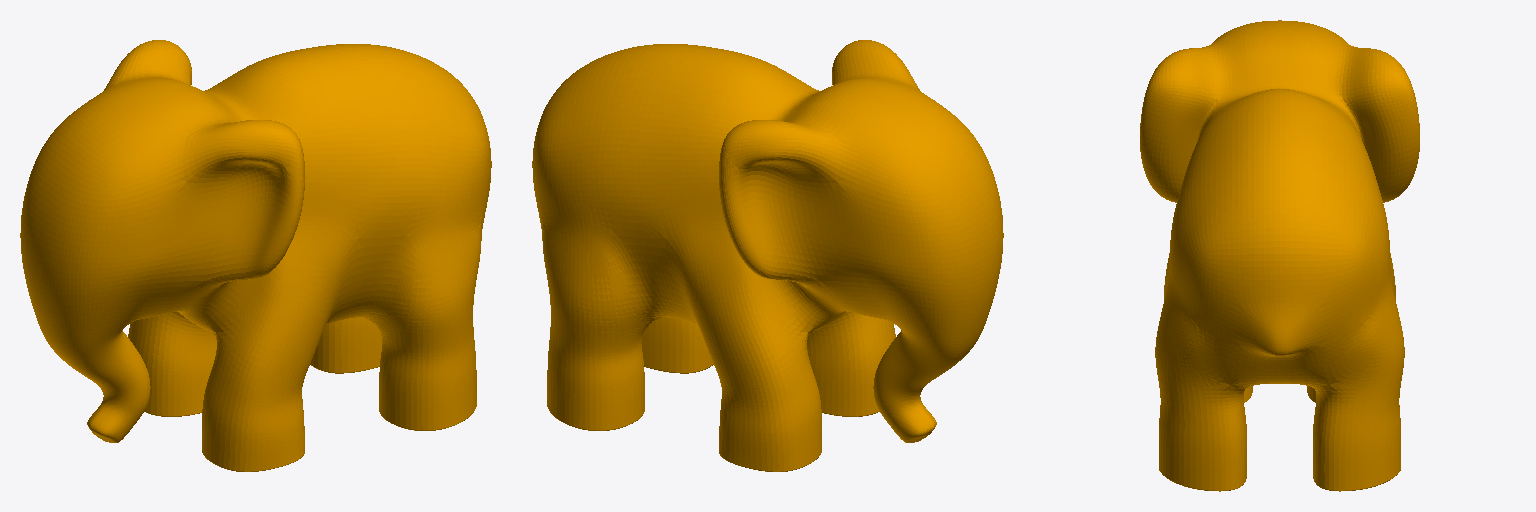
The robot description file, URDF, robot "object":
<?xml version="1.0"?>
<robot name="object">
  <link name="object">
    <visual>
      <origin xyz="0.0 0.0 0.0"/>
      <geometry>
        <mesh filename="elephant.stl" scale="1.00 1.00 1.00"/>
      </geometry>
    </visual>
    <collision>
      <origin xyz="0.0 0.0 0.0"/>
      <geometry>
        <mesh filename="elephant.stl" scale="1.00 1.00 1.00"/>
      </geometry>
    </collision>
  </link>
</robot>
    
                    

--- Facts derived from the render (not from the file) ---
The picture shows the robot from 3 angles, left to right: view 1: azimuth 30°, elevation 25°; view 2: azimuth 150°, elevation 25°; view 3: azimuth 270°, elevation 25°; orthographic projection.
Model object with 1 links and 0 joints (none), rooted at object, posed all joints at 0.
Visible links, largest first — view 1: object; view 2: object; view 3: object.
Boxes of the visible links, x1,y1,x2,y2 form: object: [20, 40, 491, 471]; object: [532, 40, 1003, 471]; object: [1140, 20, 1419, 491].
Bounding box of the posed robot: 0.1357 × 0.0765 × 0.1 m (x, y, z).
1 mesh visuals loaded from 1 distinct referenced files (1 binary STL).
